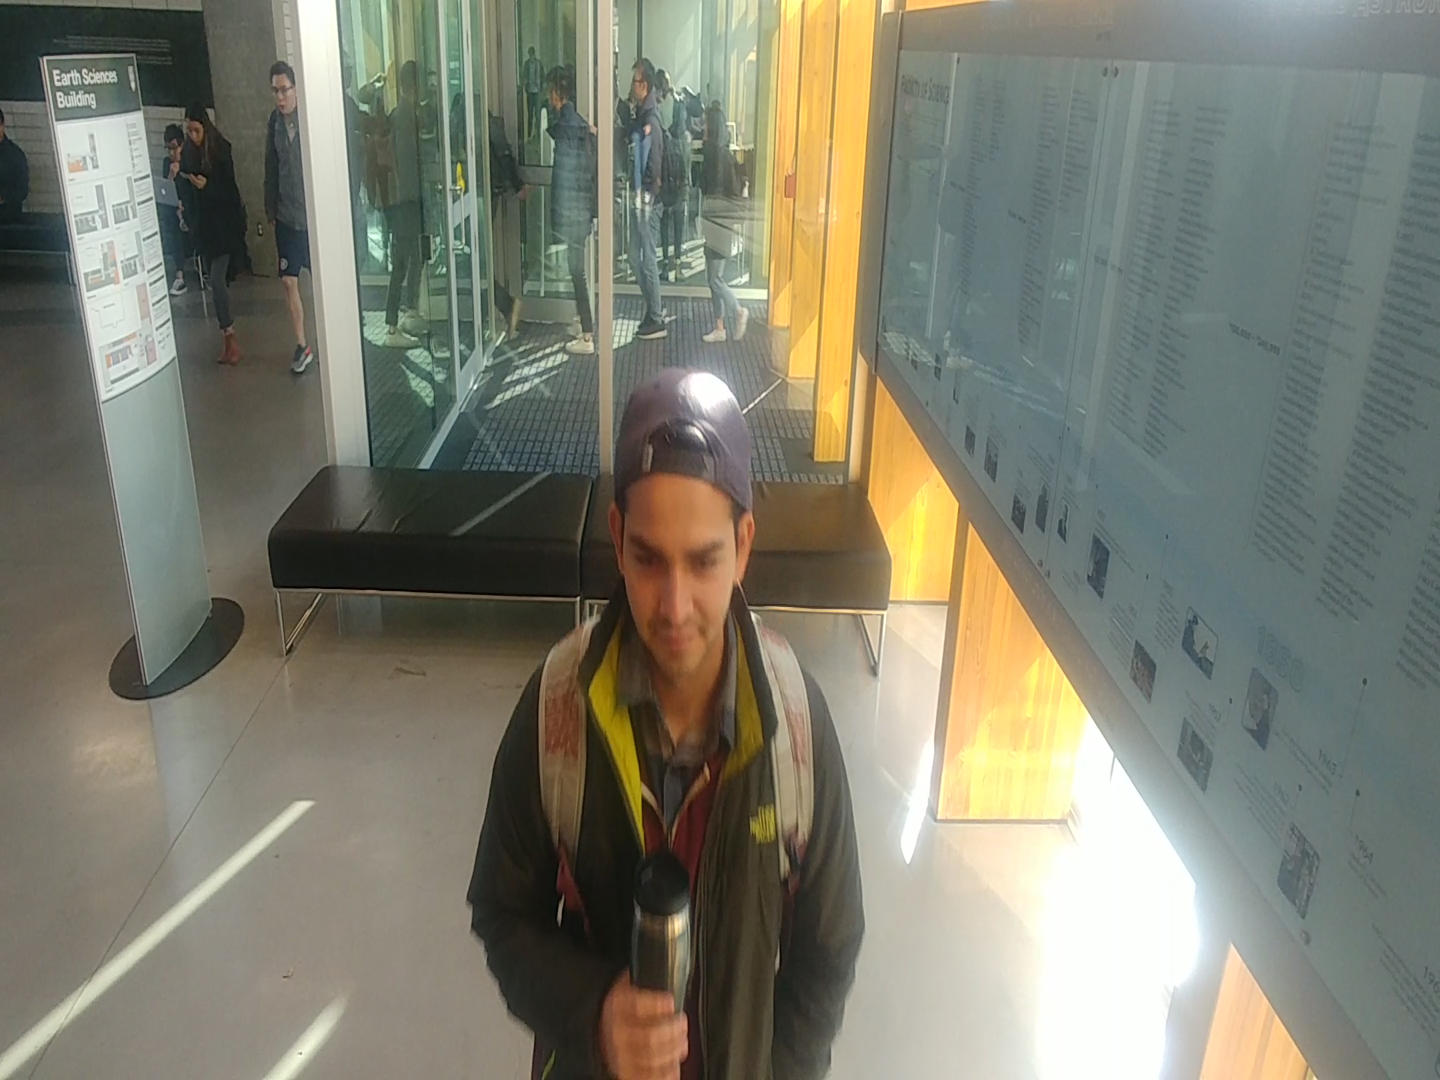face: (571, 354, 790, 692), (255, 54, 304, 117), (534, 57, 579, 117), (178, 93, 223, 149), (694, 102, 737, 152), (624, 51, 661, 107), (159, 122, 187, 171)
human: (459, 360, 894, 1079), (167, 98, 260, 370), (254, 45, 325, 377), (527, 56, 603, 362), (619, 52, 689, 349), (693, 94, 759, 357)
